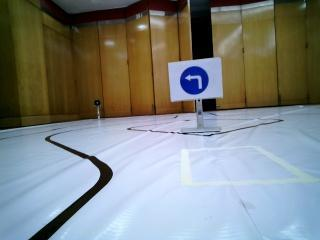left: (169, 61, 217, 100)
